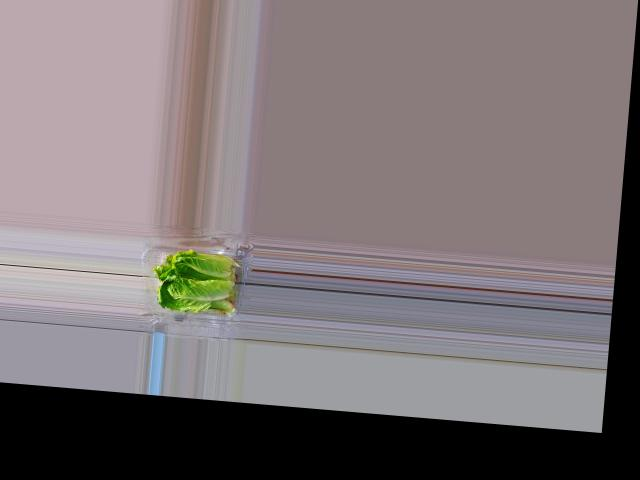lettuce: (150, 247, 236, 315)
